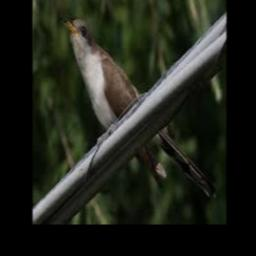Cuckoo: (62, 19, 215, 196)
